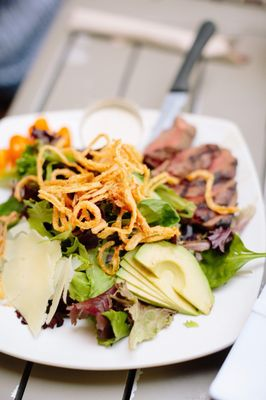burger: (141, 20, 215, 149)
